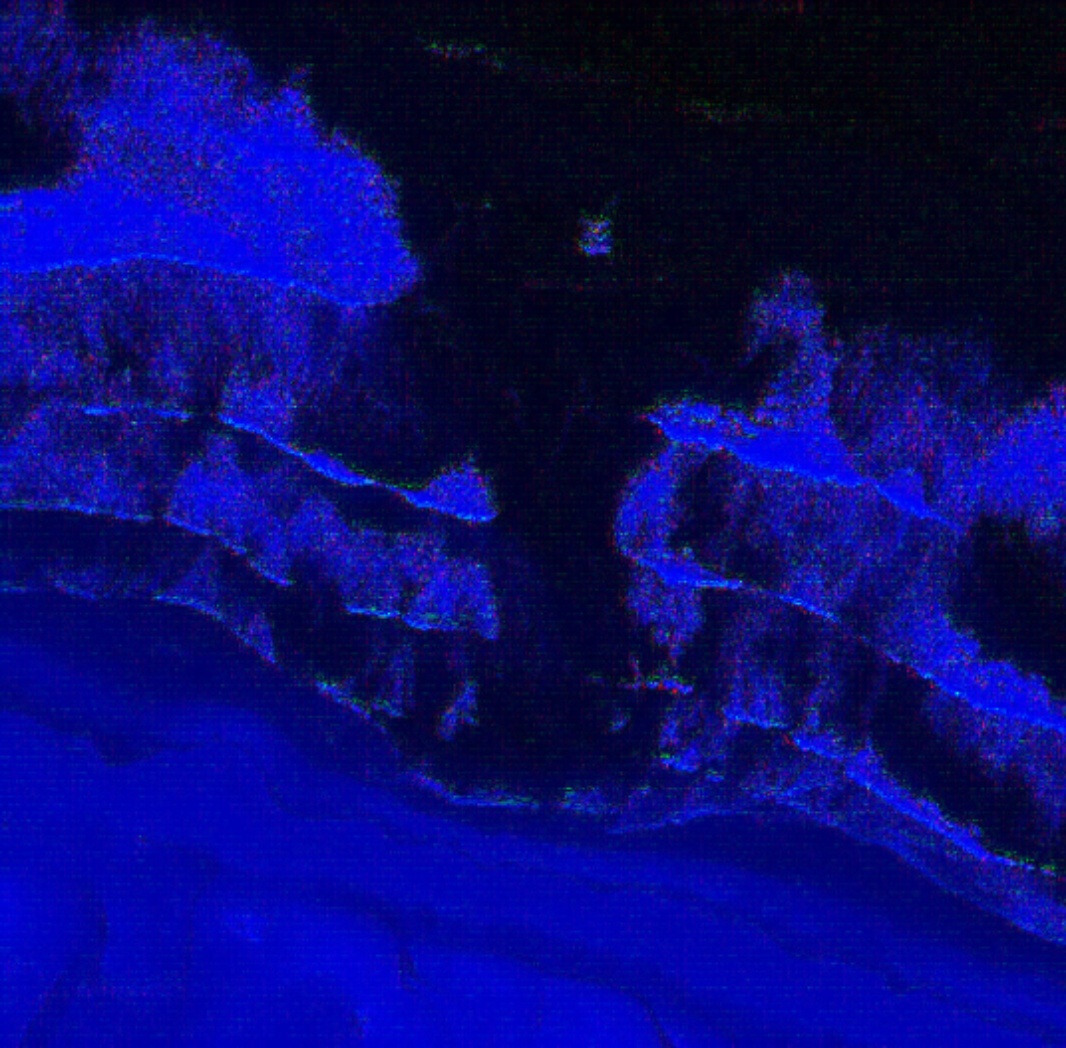rip_current: (347, 224, 742, 783)
